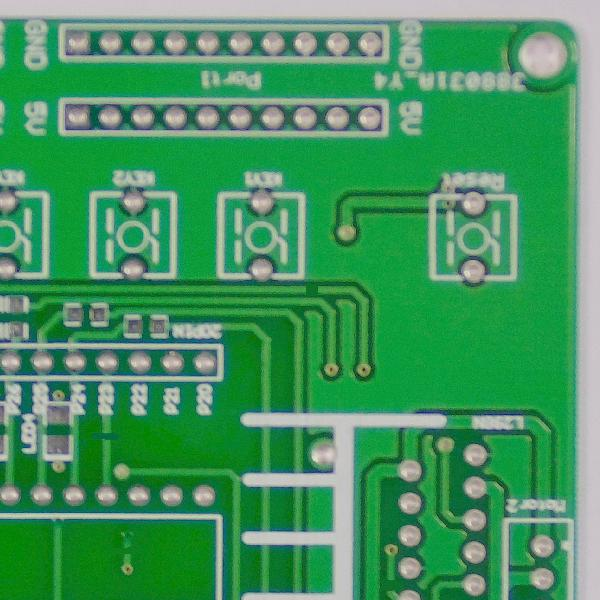open_circuit: (96, 429, 124, 447), (385, 576, 401, 595), (303, 283, 321, 297)
